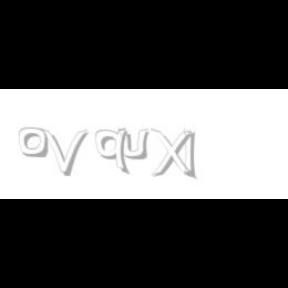V: (40, 128, 88, 176)
X: (150, 128, 194, 180)
l: (184, 128, 200, 180)
o: (18, 128, 48, 158)
q: (95, 128, 131, 176)
u: (118, 128, 152, 160)
